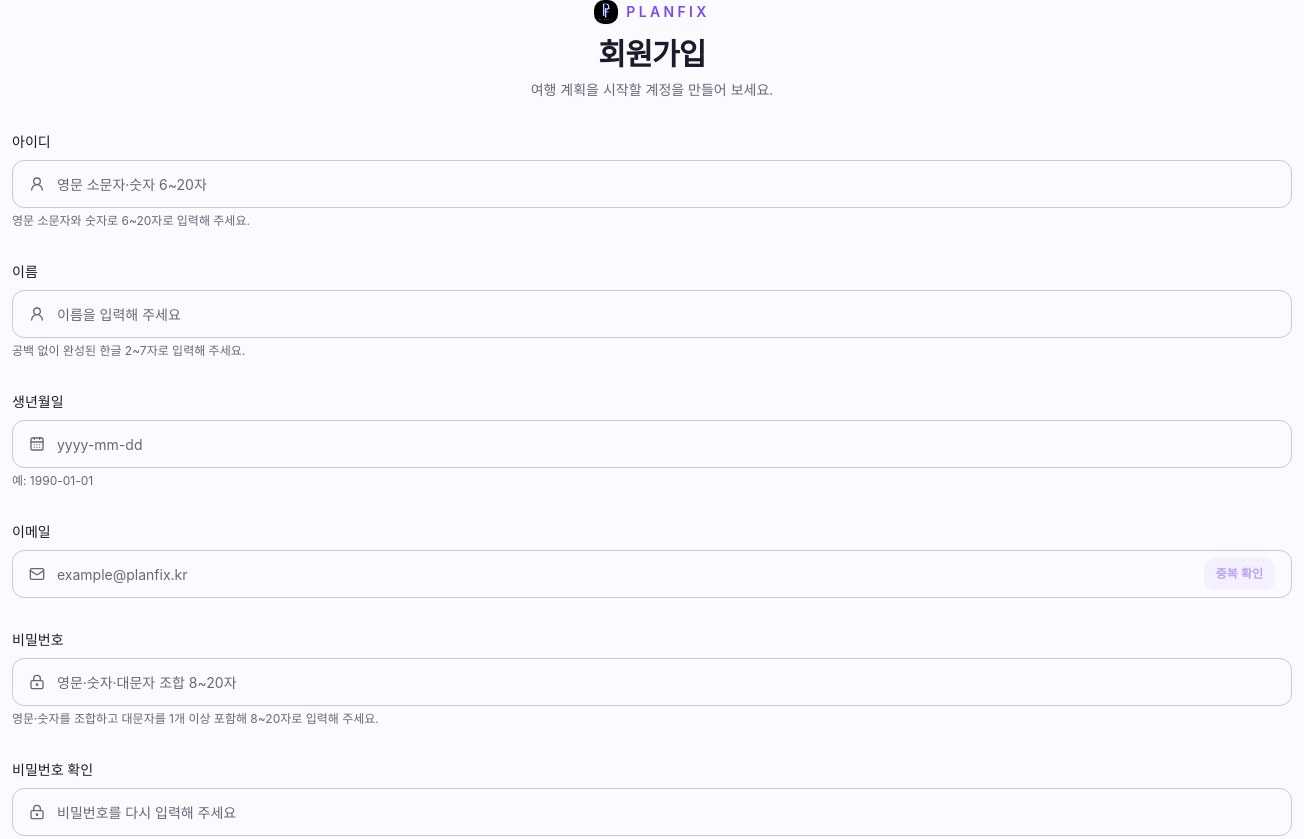
rejects an invalid signup birth date
This screenshot has width=1304, height=839.
Type "testuser1" into the field labelled "아이디" at point(666, 184), box [57, 161, 1275, 207]
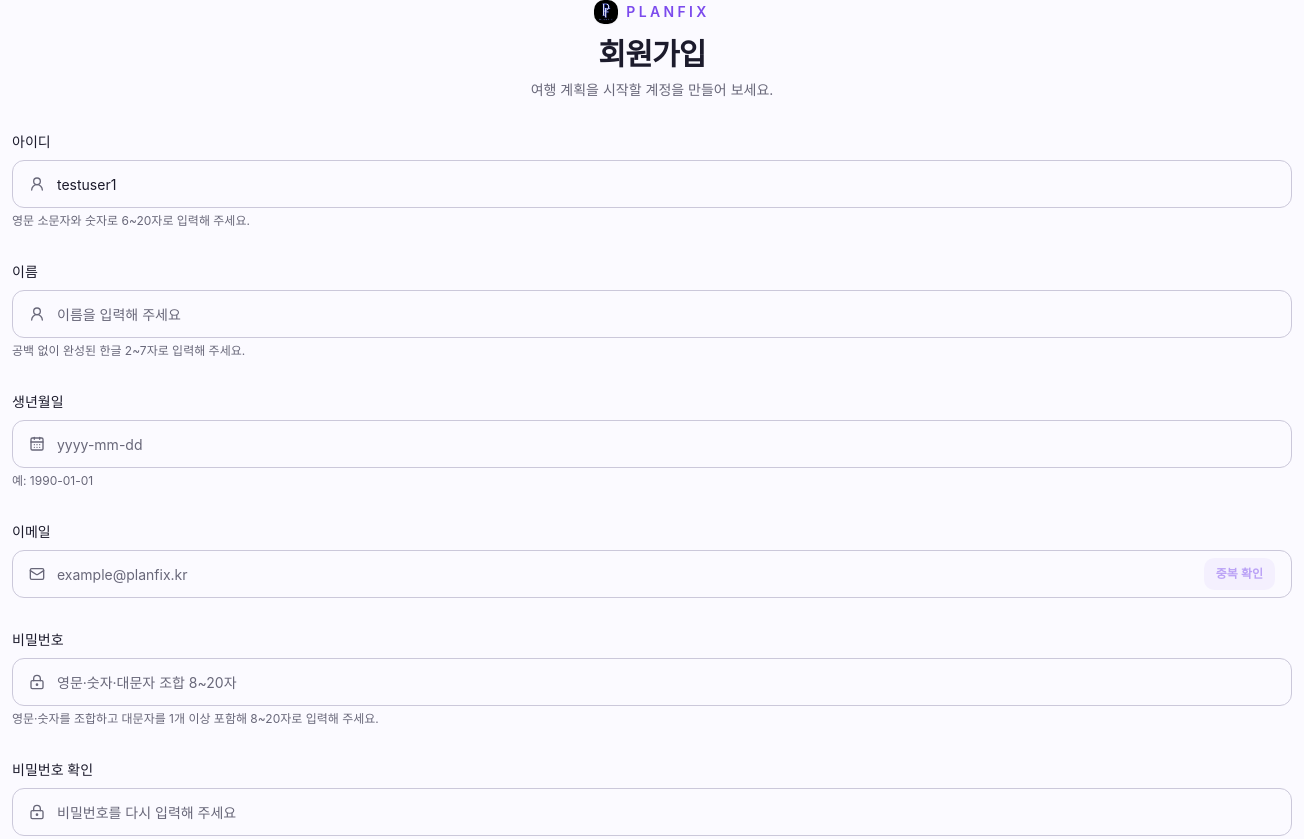
Type "김태용" into the field labelled "이름" at point(666, 314), box [57, 291, 1275, 337]
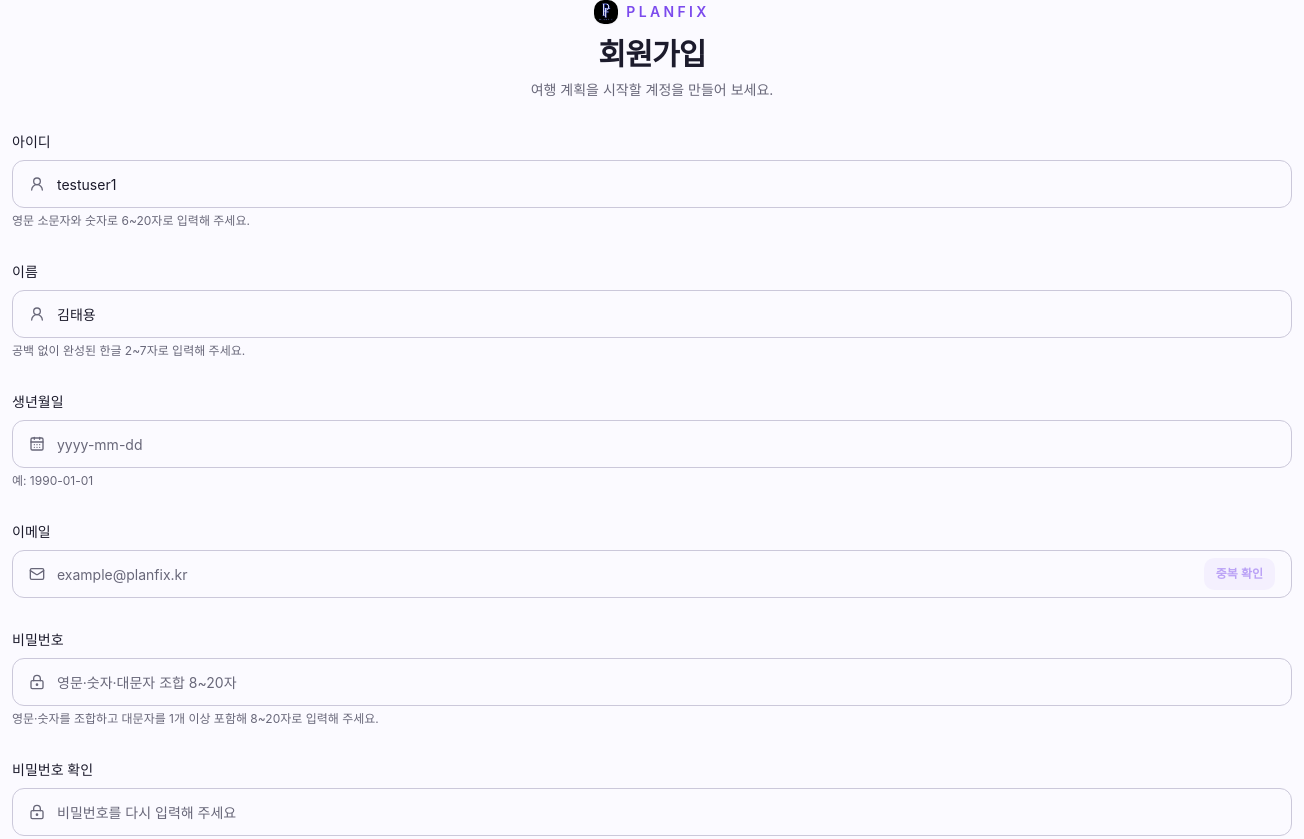
Type "19901340" into the field labelled "생년월일" at point(666, 444), box [57, 421, 1275, 467]
(page scrolled)
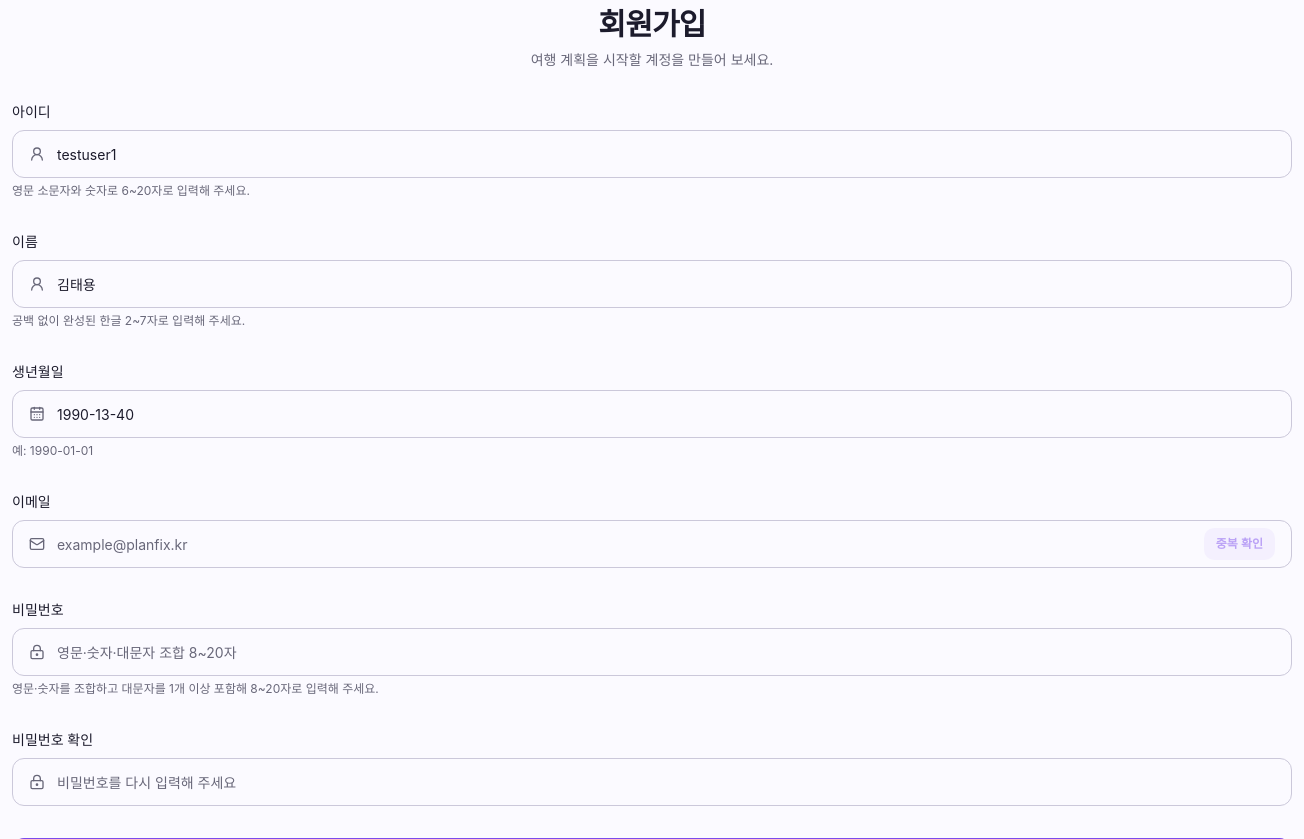
Submit the form named "회원가입 정보"
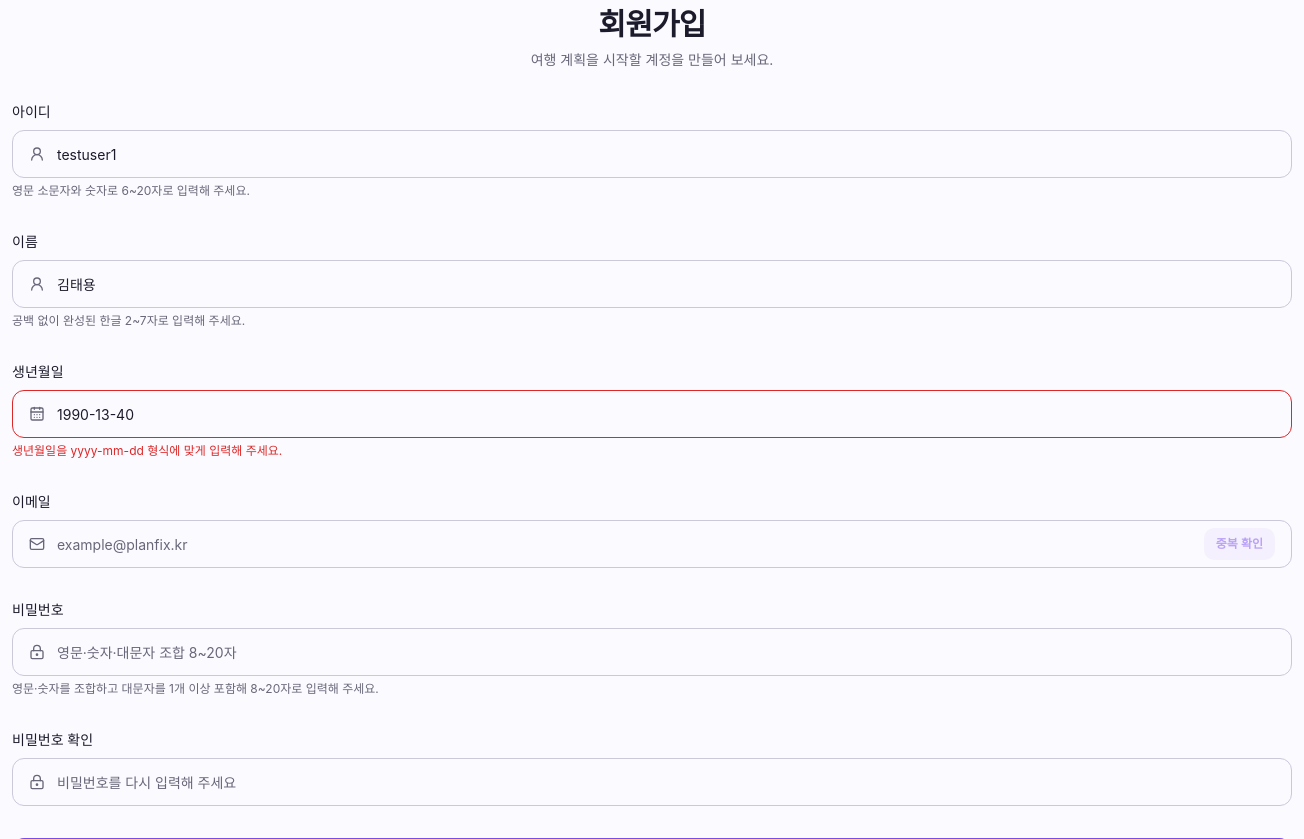
Expected: the message reads "생년월일을 yyyy-mm-dd 형식에 맞게 입력해 주세요.", [12, 443, 282, 458]
